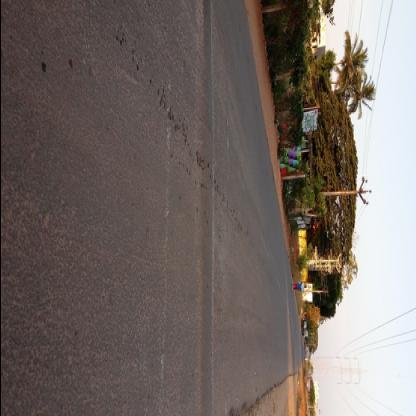speed-bumps: (194, 2, 220, 416)
